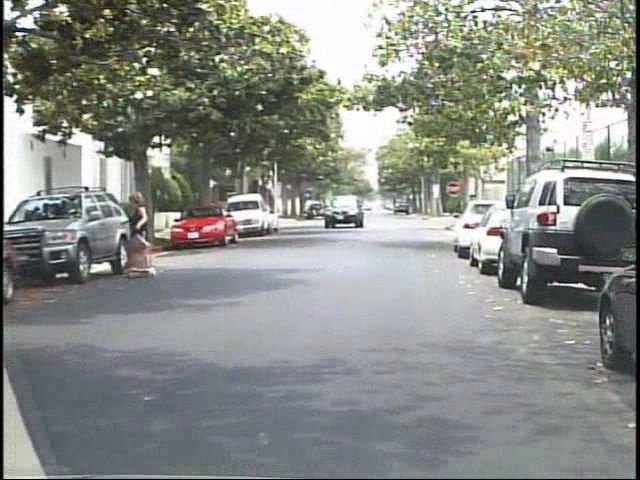person: (129, 187, 165, 279)
